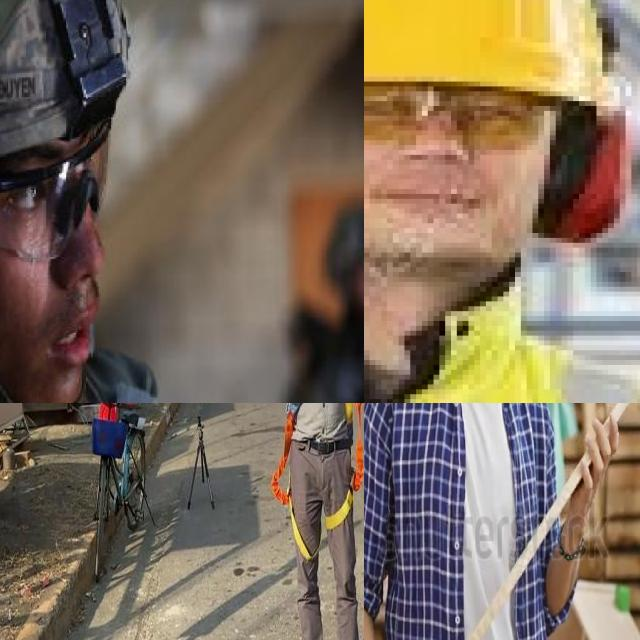Ear-protection: (364, 81, 637, 244)
Harness: (272, 413, 317, 562), (326, 403, 364, 532)
face_nomask: (0, 155, 122, 386)
glasses: (364, 86, 566, 153), (0, 159, 102, 268)
head_helmet: (0, 0, 130, 204), (364, 0, 627, 86), (319, 195, 364, 276)
person: (364, 403, 598, 640), (254, 185, 364, 403)
